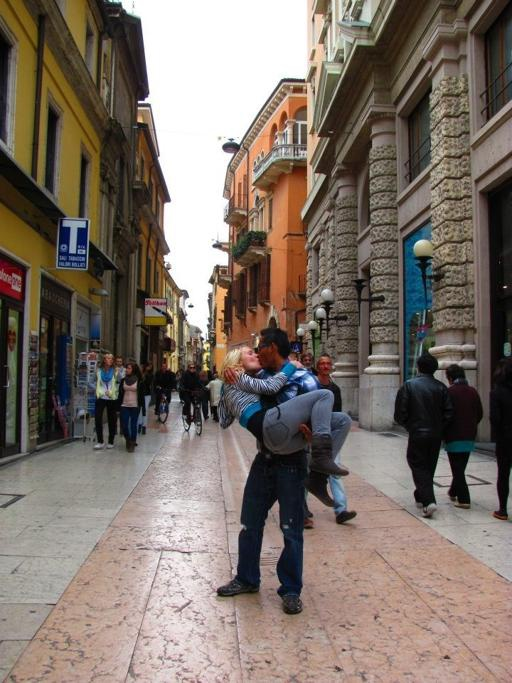non-vehicle: (177, 386, 204, 435), (154, 385, 174, 423)
